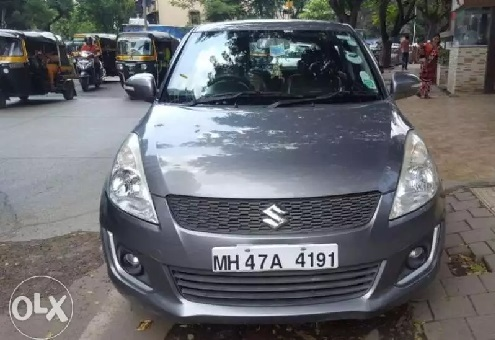licenseplate: (210, 243, 341, 272)
